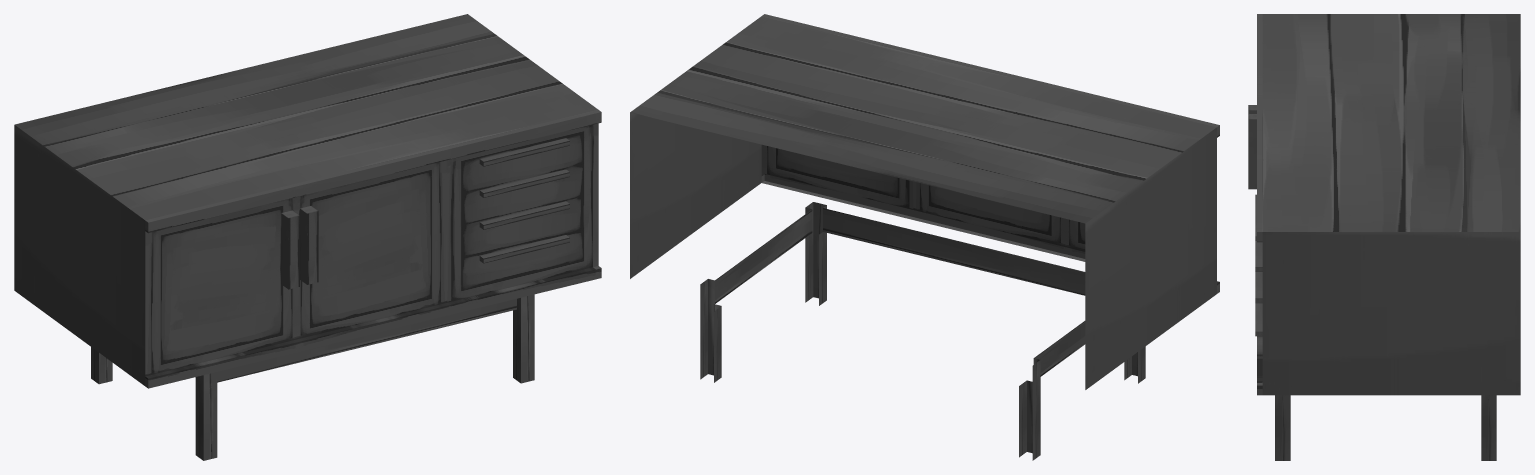
Rendered from mdl_table.fbx.
3 views of the same model, side by side, from view 1: azimuth 30°, elevation 25°; view 2: azimuth 150°, elevation 25°; view 3: azimuth 270°, elevation 25° (orthographic). The views are drawn at different scales.
Visible parts, largest first — view 1: pCube14; view 2: pCube14; view 3: pCube14.
Part boxes in pixels (bbox=[...]): pCube14: bbox=[14, 14, 601, 460]; pCube14: bbox=[630, 14, 1219, 460]; pCube14: bbox=[1248, 14, 1520, 460].
Size of the model in its own units: 100 by 55 by 52.77.
Materials: 1 (1 with a texture image).
